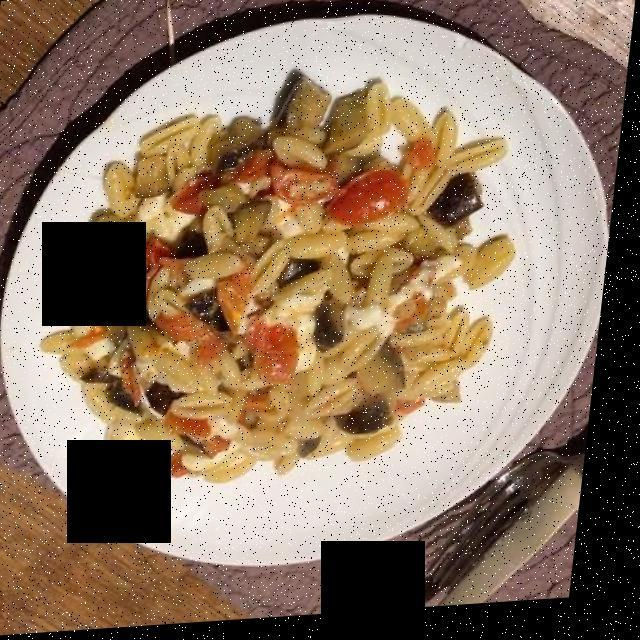cheese: (250, 261, 465, 377)
pasta: (55, 95, 501, 478)
tomato: (179, 159, 394, 233)
